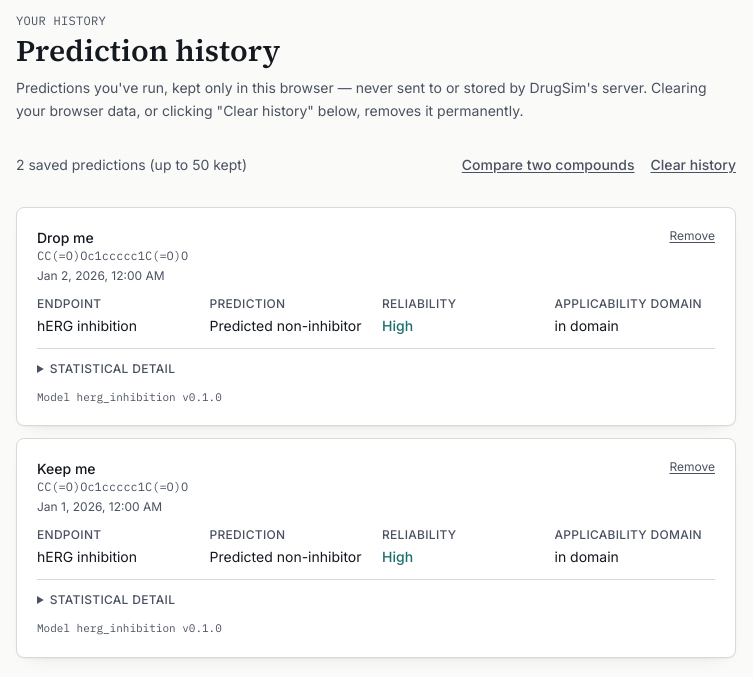
it: HistoryPage › removes a single entry without clearing the rest
Click the button with aria-label "remove drop me from history". click: click(692, 236)
box: [670, 228, 715, 244]
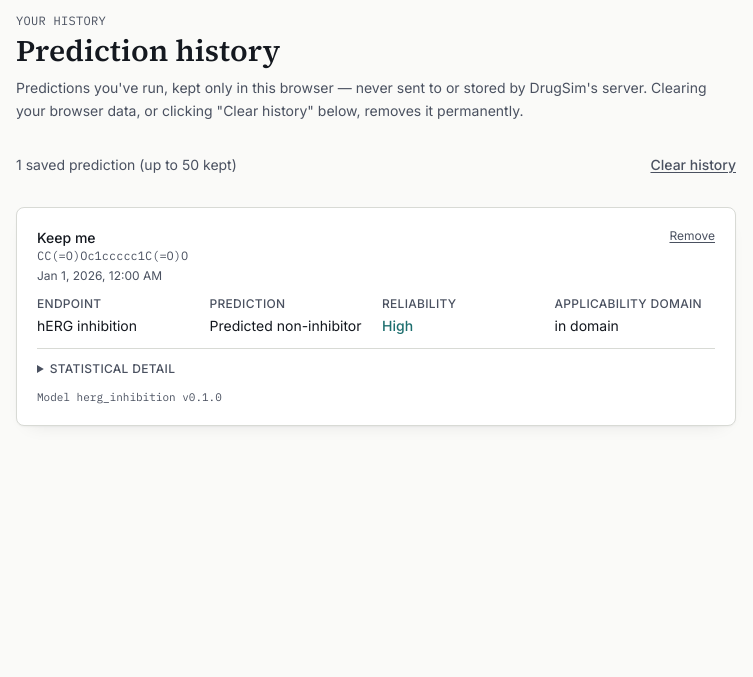
Expected: the text "Keep me" is shown, [37, 228, 96, 246]
Expected: the text "Drop me" is gone
